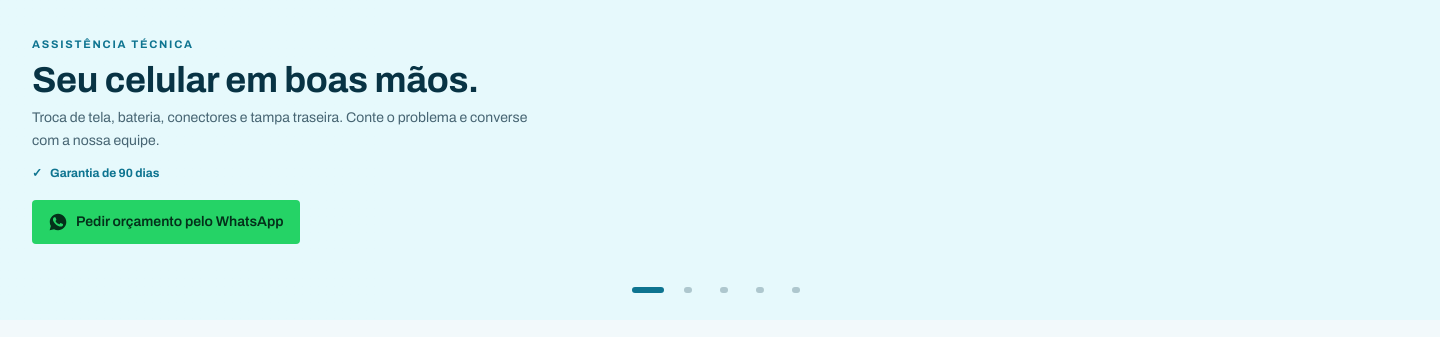
Scenario: carrossel de assistência › não gira automaticamente quando movimento reduzido está ativo
The width and height of the screenshot is (1440, 337).
Click the button named "Ver banner: Troca de tela" at (688, 290), box [672, 268, 704, 312]
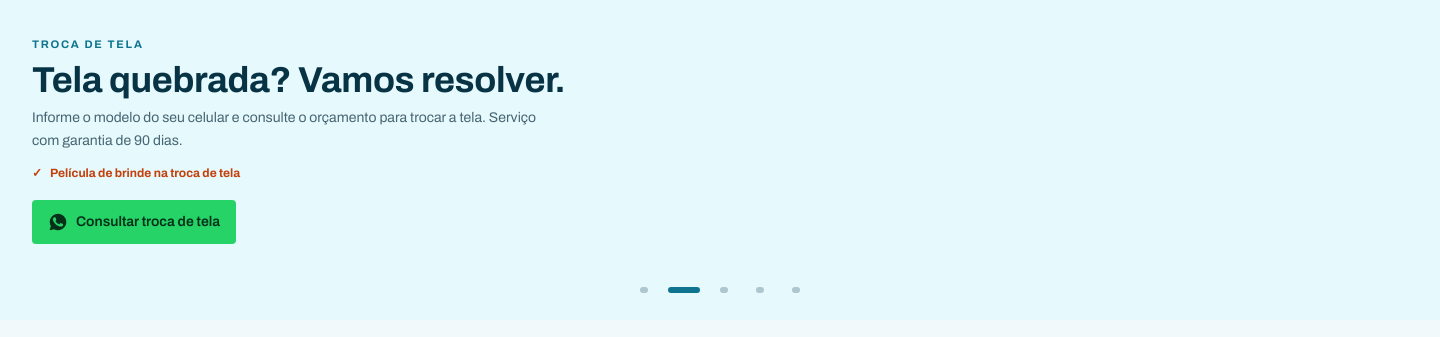
Expected: the heading reads "Tela quebrada? Vamos resolver.", [32, 60, 565, 100]
